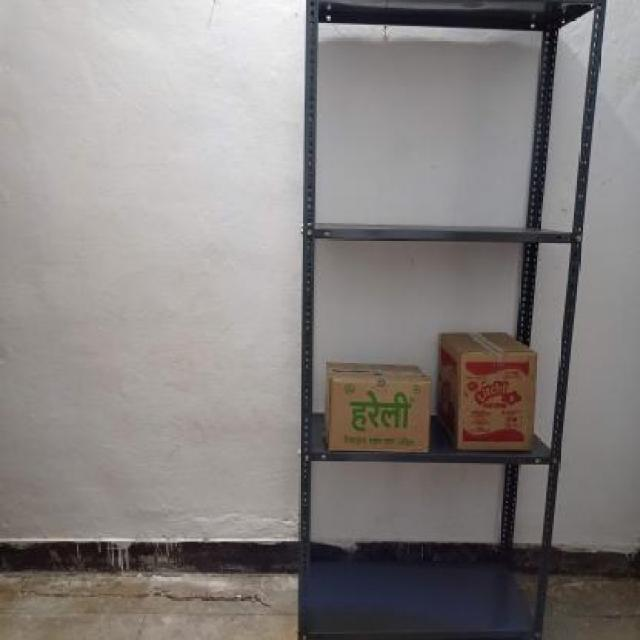box: (326, 377, 434, 454), (456, 352, 536, 452)
